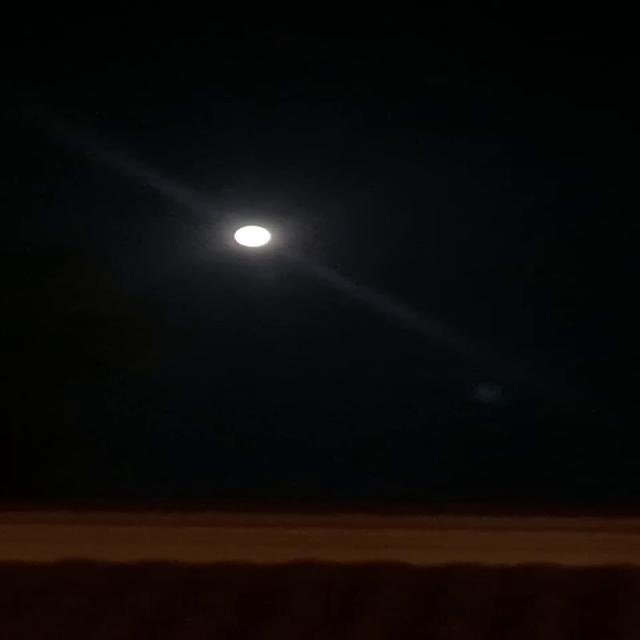moon: (223, 219, 276, 250)
